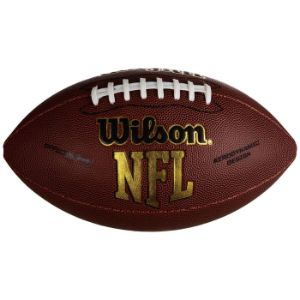futbol americano: (4, 68, 297, 231)
